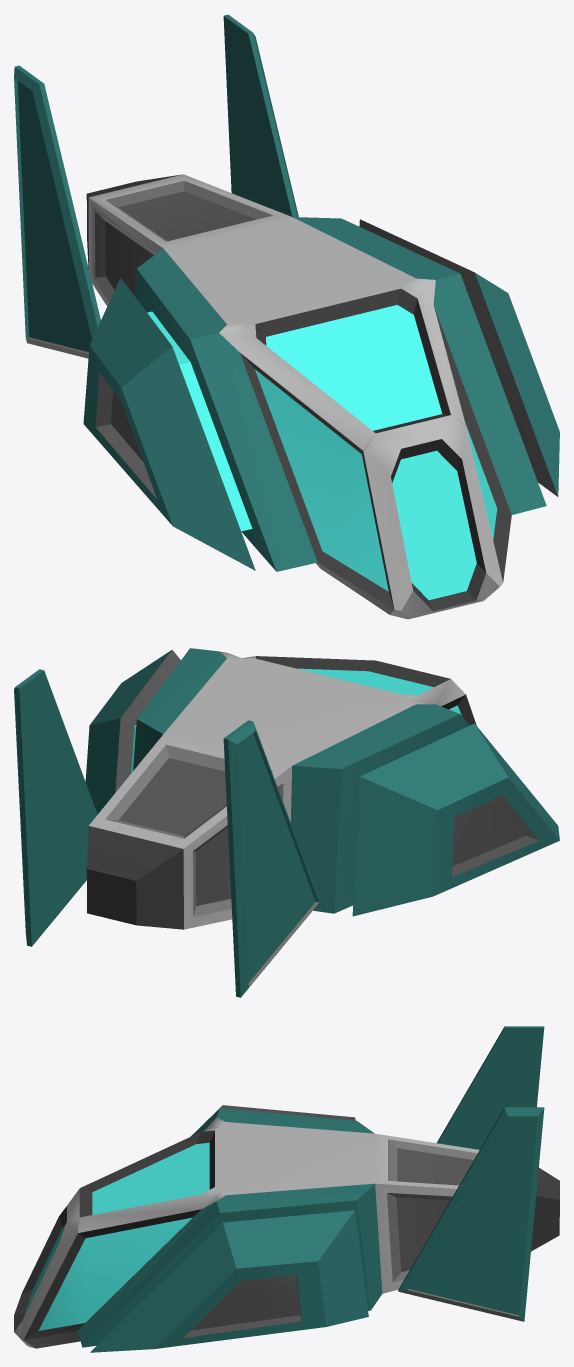
File: Ship_2x3_A1.fbx
The picture shows the model from 3 angles, top to bottom: view 1: azimuth 30°, elevation 25°; view 2: azimuth 150°, elevation 25°; view 3: azimuth 270°, elevation 25°; orthographic projection. The views are drawn at different scales.
Visible parts, largest first — view 1: Ship_2x3_A1; view 2: Ship_2x3_A1; view 3: Ship_2x3_A1.
Boxes of the visible parts, left/top/right/bottom form: Ship_2x3_A1: left=14, top=14, right=559, bottom=619; Ship_2x3_A1: left=14, top=648, right=559, bottom=997; Ship_2x3_A1: left=14, top=1026, right=559, bottom=1352.
Bounding box in the file's own units: 181 × 149 × 278.
